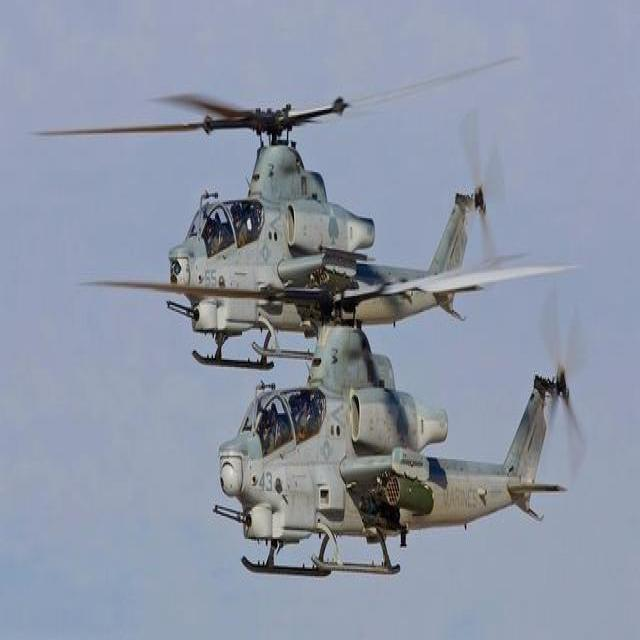MIL_HELO: (71, 255, 605, 575), (36, 39, 526, 370)
